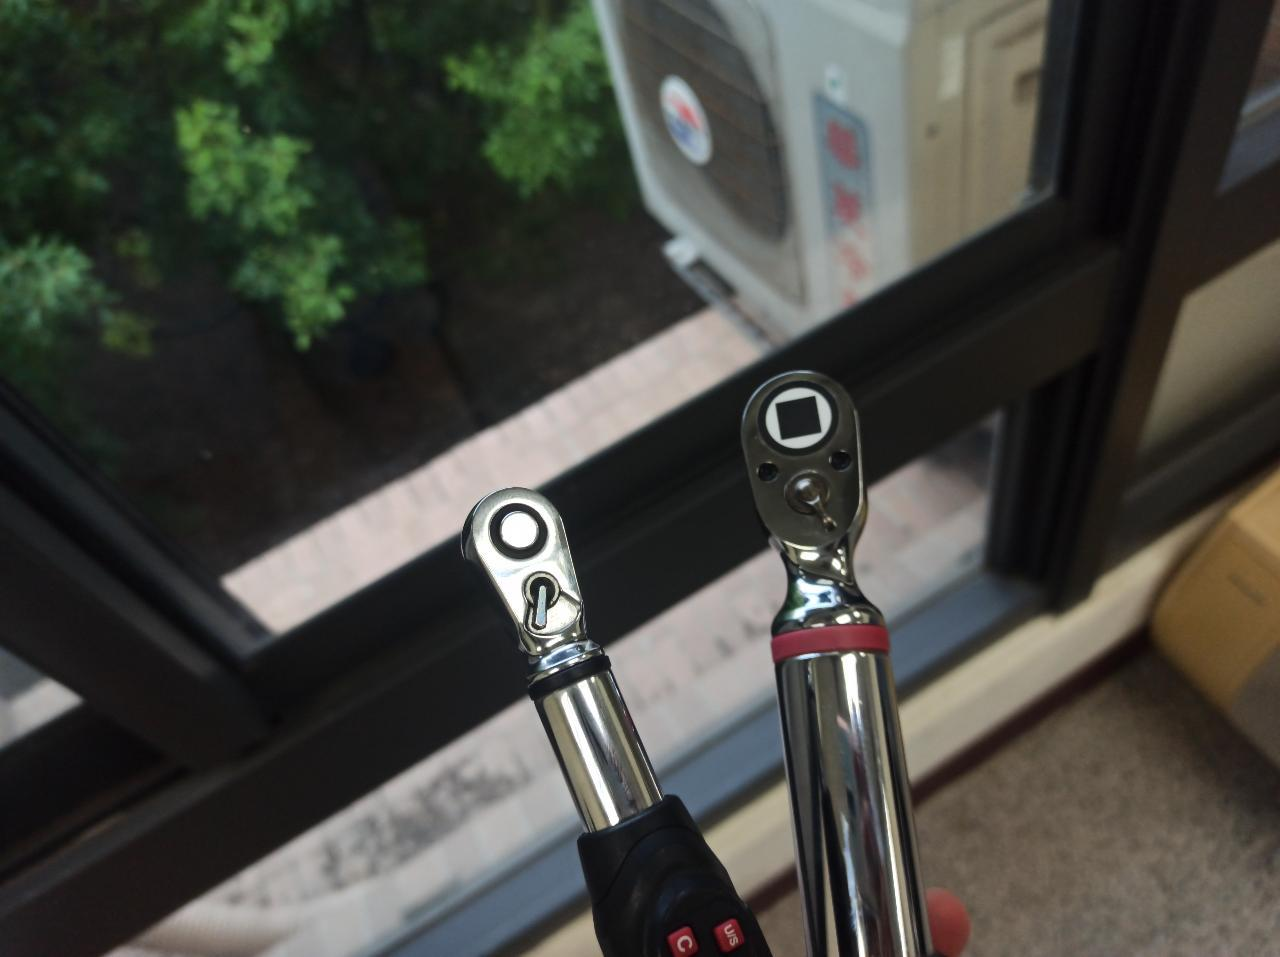Tool: (736, 371, 892, 627), (462, 485, 604, 669)
